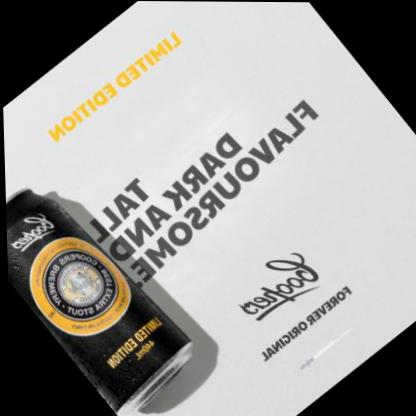cardboard: (0, 0, 415, 415)
metal: (7, 190, 191, 410)
